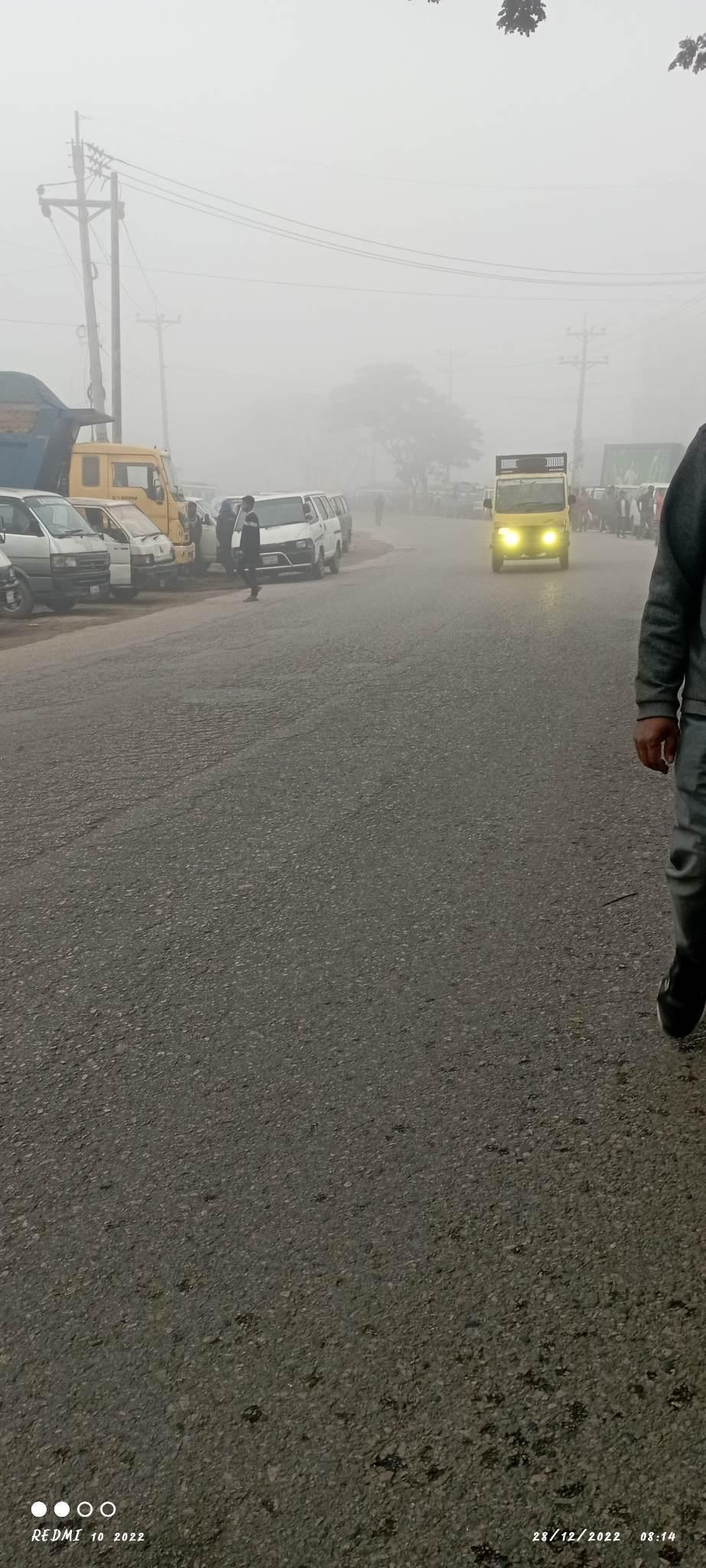Car: (227, 482, 360, 596), (9, 481, 117, 621)
Truck: (11, 352, 207, 582), (477, 439, 595, 606)
